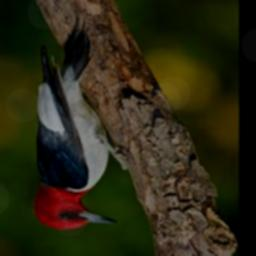Woodpecker: (27, 13, 135, 229)
